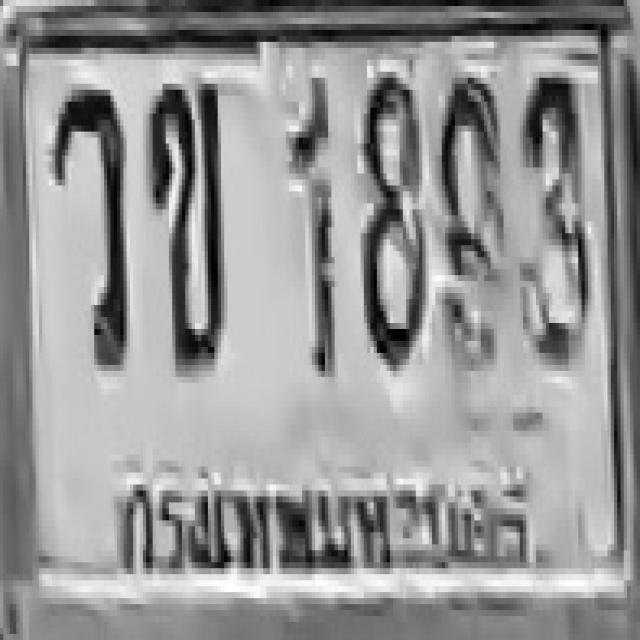1: (288, 69, 333, 374)
11KhorKhai: (143, 78, 221, 365)
3: (517, 72, 588, 365)
46WorWaen: (50, 84, 125, 365)
8: (360, 69, 426, 368)
9: (437, 75, 505, 368)
Bangkok: (117, 459, 534, 580)
